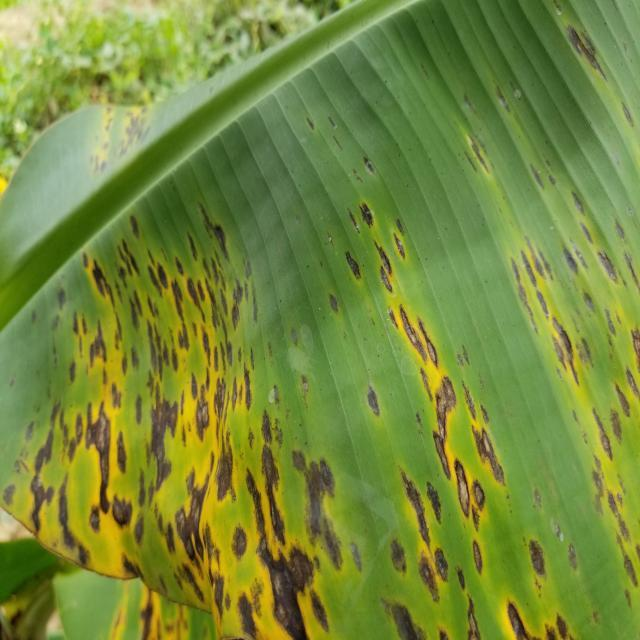Early_rust: (13, 22, 640, 640)
